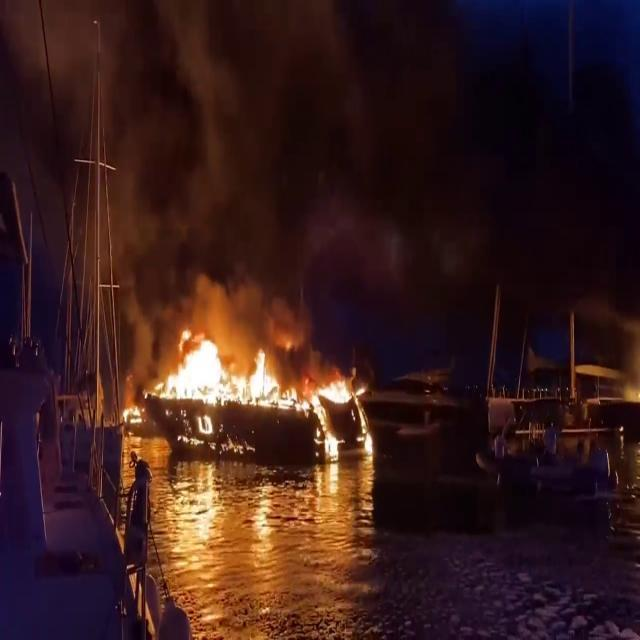Fire: (152, 328, 302, 408), (122, 391, 144, 432)
Smoke: (71, 1, 397, 340)
